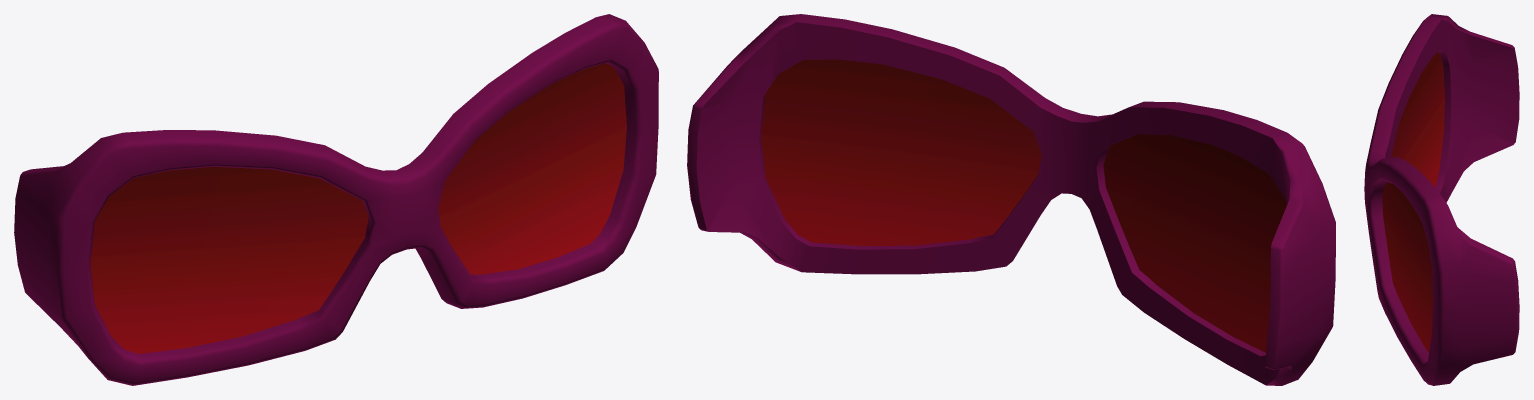
File: AccessoryGlassButterfly1.glb
3 renders of one model, left to right at view 1: azimuth 30°, elevation 25°; view 2: azimuth 150°, elevation 25°; view 3: azimuth 270°, elevation 25°, orthographic. The views are drawn at different scales.
Parts seen in each view (by area): view 1: AccessoryAlpha__mAccessoryAlpha, Accessory__mAccessory; view 2: AccessoryAlpha__mAccessoryAlpha, Accessory__mAccessory; view 3: Accessory__mAccessory, AccessoryAlpha__mAccessoryAlpha.
Boxes of the visible parts, left/top/right/bottom form: AccessoryAlpha__mAccessoryAlpha: left=90, top=63, right=626, bottom=353; Accessory__mAccessory: left=14, top=14, right=658, bottom=385; AccessoryAlpha__mAccessoryAlpha: left=761, top=59, right=1286, bottom=352; Accessory__mAccessory: left=687, top=14, right=1335, bottom=385; Accessory__mAccessory: left=1364, top=14, right=1519, bottom=385; AccessoryAlpha__mAccessoryAlpha: left=1382, top=52, right=1444, bottom=352.
Size of the model in its own units: 6.25 by 2.45 by 1.83.
2 materials, 2 textured.
